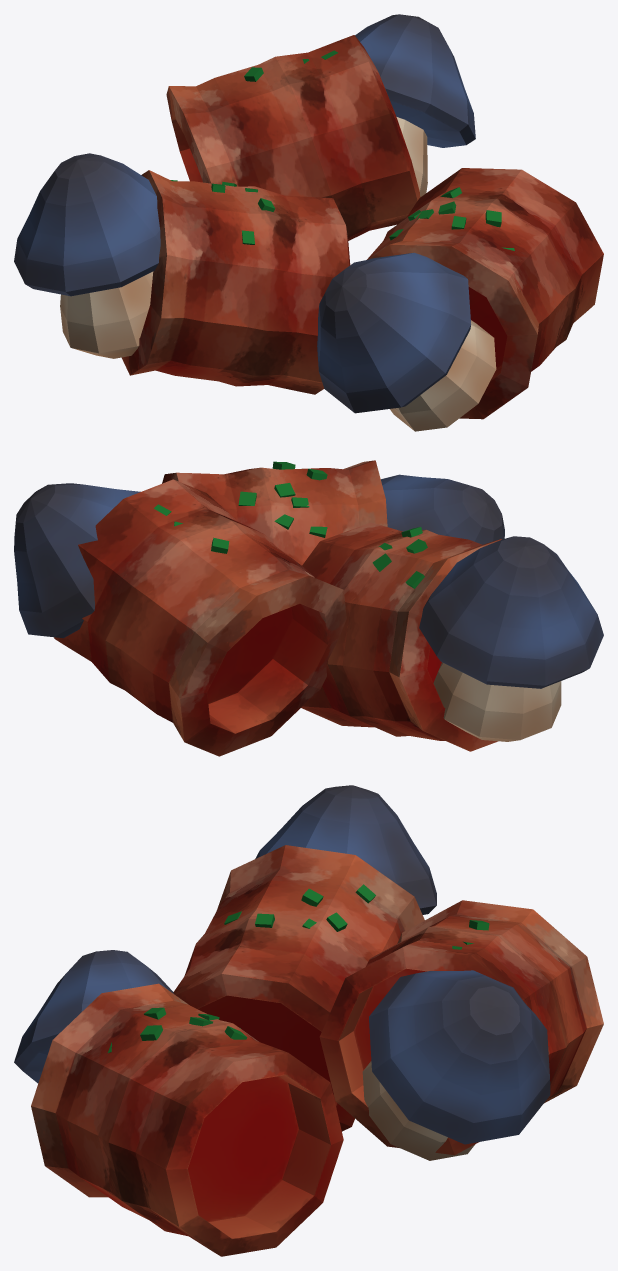
Rendered from MushroomMeat.fbx.
The picture shows the model from 3 angles, top to bottom: view 1: azimuth 30°, elevation 25°; view 2: azimuth 150°, elevation 25°; view 3: azimuth 270°, elevation 25°; orthographic projection. The views are drawn at different scales.
Parts seen in each view (by area): view 1: MushroomMeat; view 2: MushroomMeat; view 3: MushroomMeat.
Part boxes in pixels (x1=…): MushroomMeat: x1=14, y1=14, x2=603, y2=431; MushroomMeat: x1=14, y1=460, x2=603, y2=756; MushroomMeat: x1=14, y1=785, x2=603, y2=1256.
Size of the model in its own units: 43.48 by 41.02 by 21.15.
2 materials, 2 textured.
